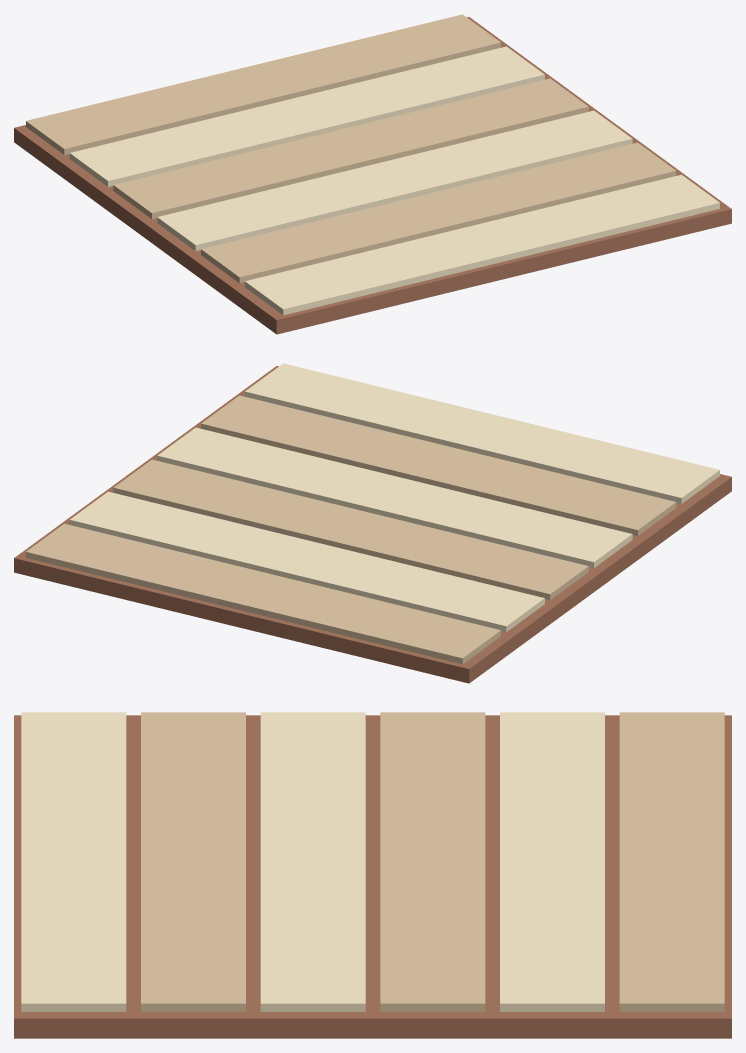
File: path_walk.glb
3 renders of one model, top to bottom at view 1: azimuth 30°, elevation 25°; view 2: azimuth 150°, elevation 25°; view 3: azimuth 270°, elevation 25°, orthographic. The views are drawn at different scales.
Visible parts, largest first — view 1: path_walk; view 2: path_walk; view 3: path_walk.
Boxes of the visible parts, x1,y1,x2,y2 form: path_walk: (14, 14, 731, 334); path_walk: (14, 363, 731, 683); path_walk: (14, 712, 731, 1038).
Bounding box in the file's own units: 3.96 × 0.175 × 3.96.
